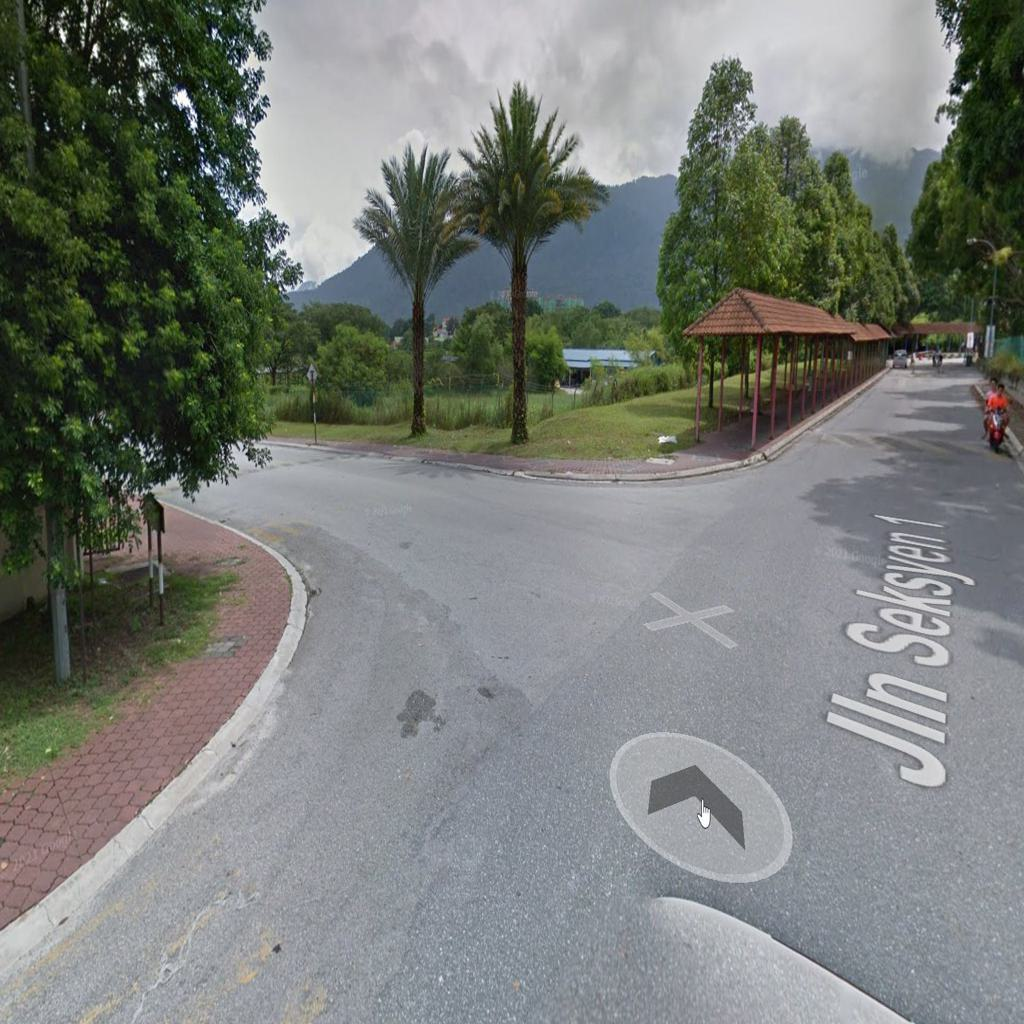Junction: (158, 456, 790, 838)
